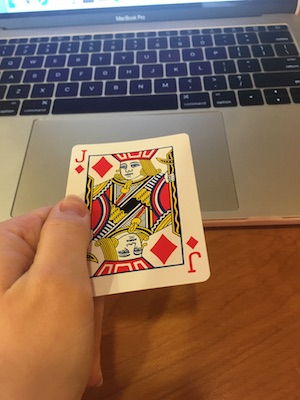JackOfDiamonds: (55, 130, 216, 306)
